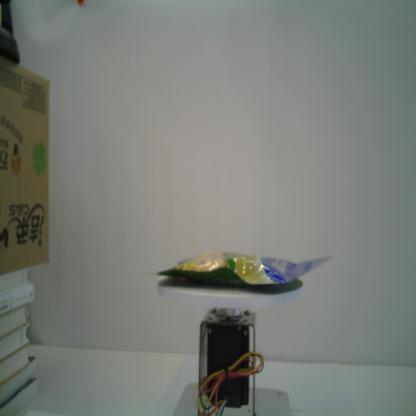Dried Fruit: (156, 249, 337, 291)
